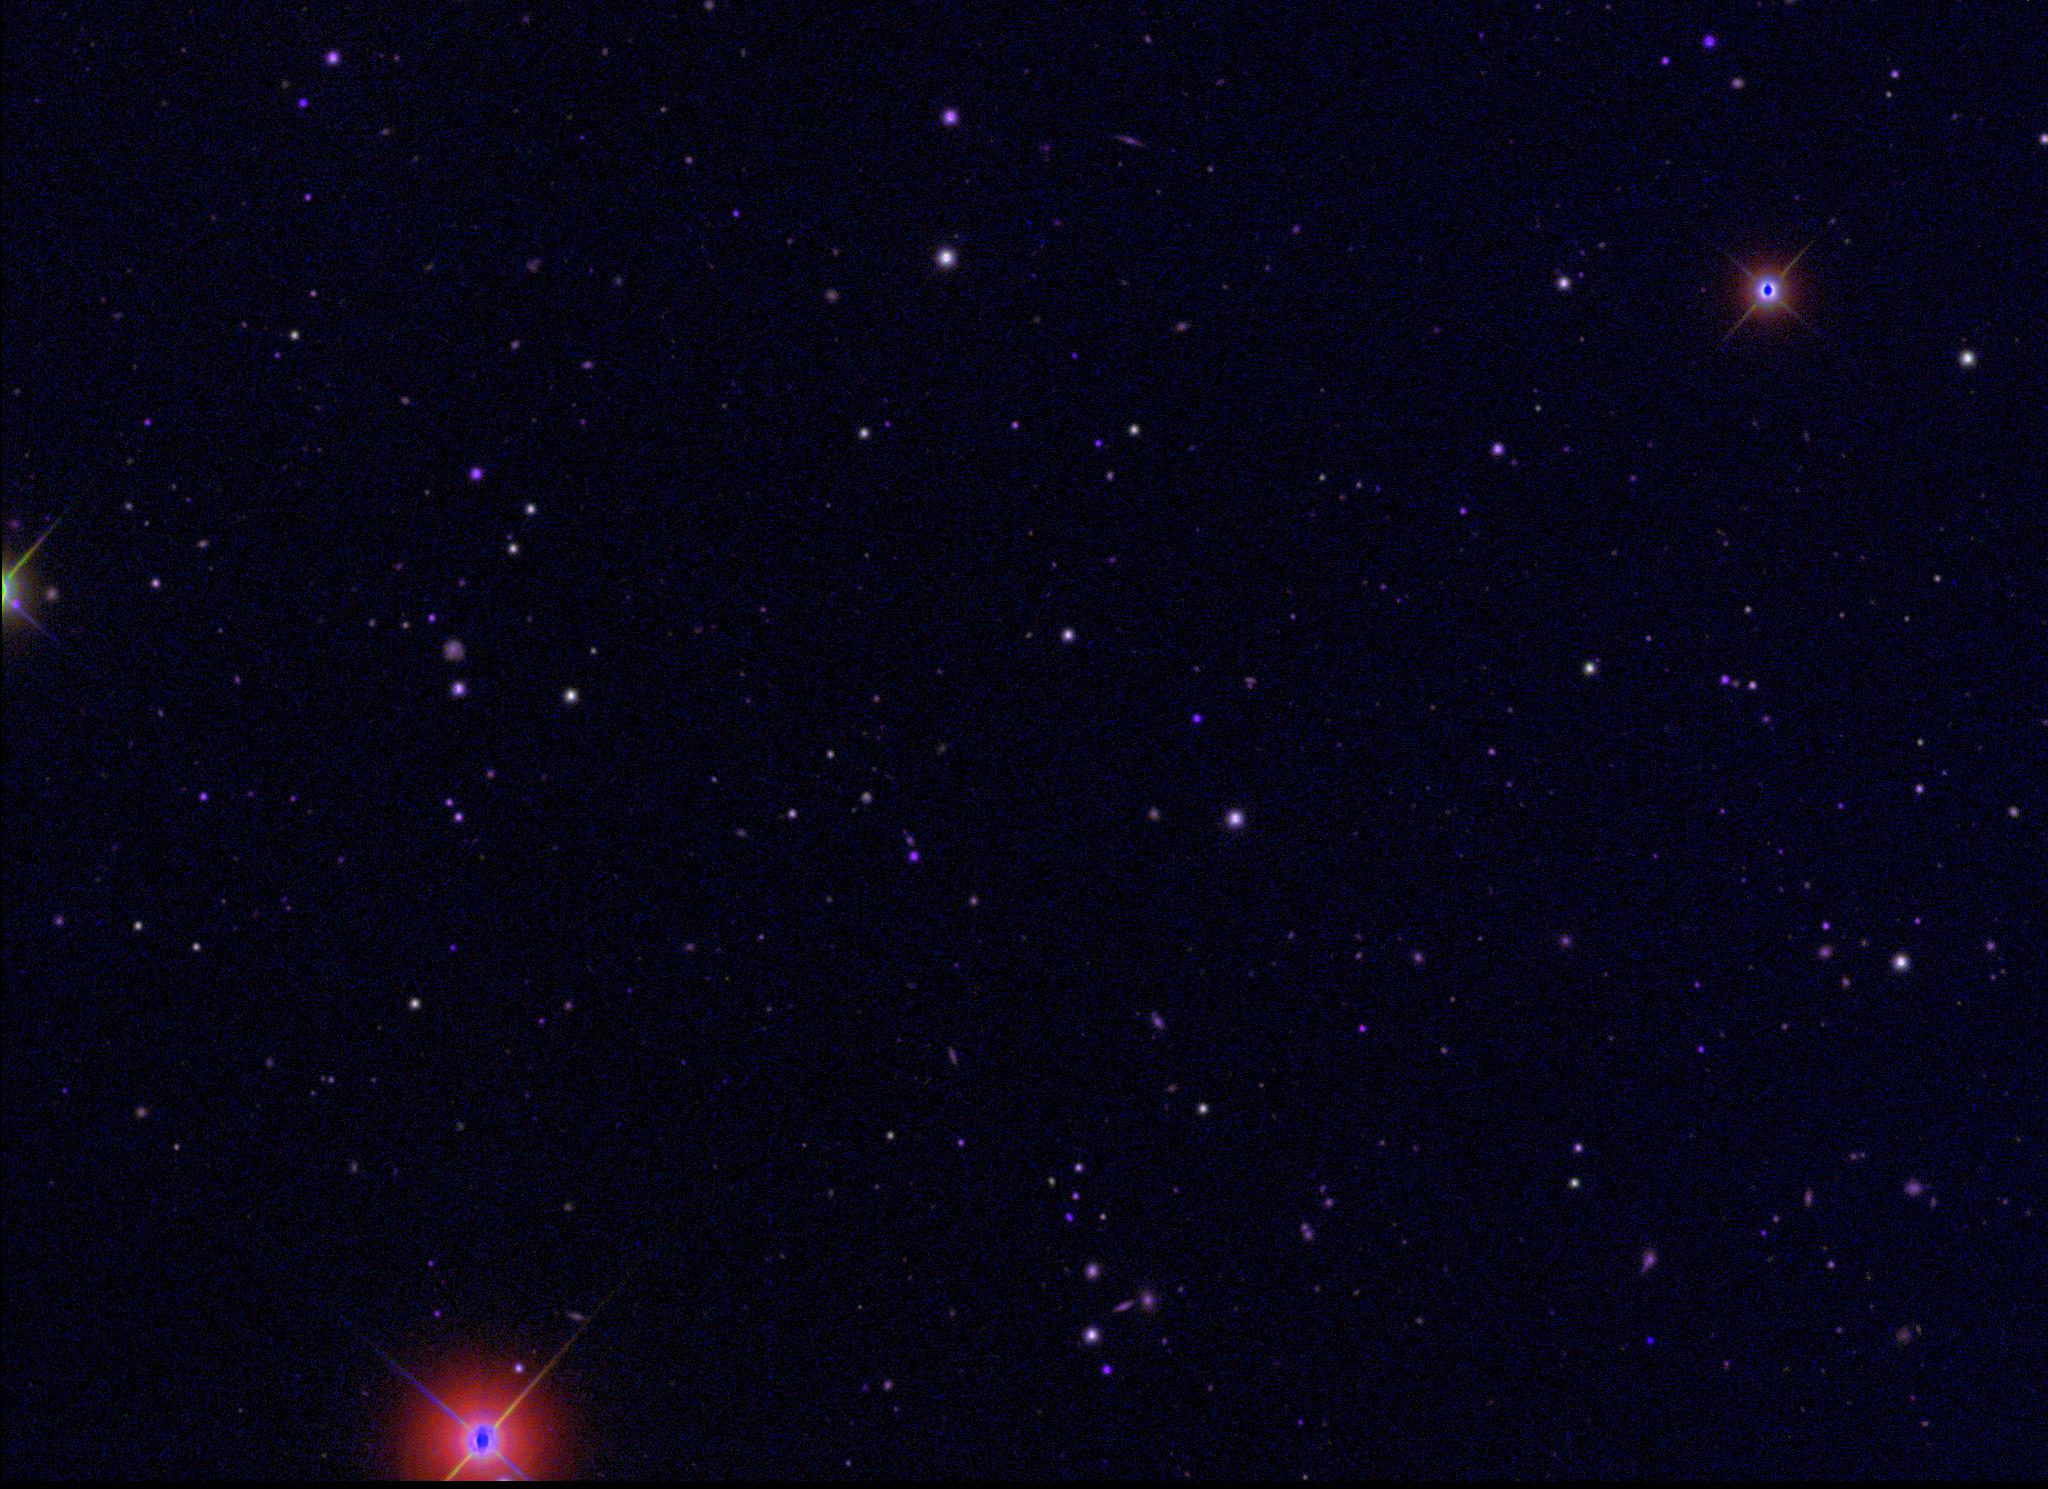L: (1643, 1335, 1657, 1347)
